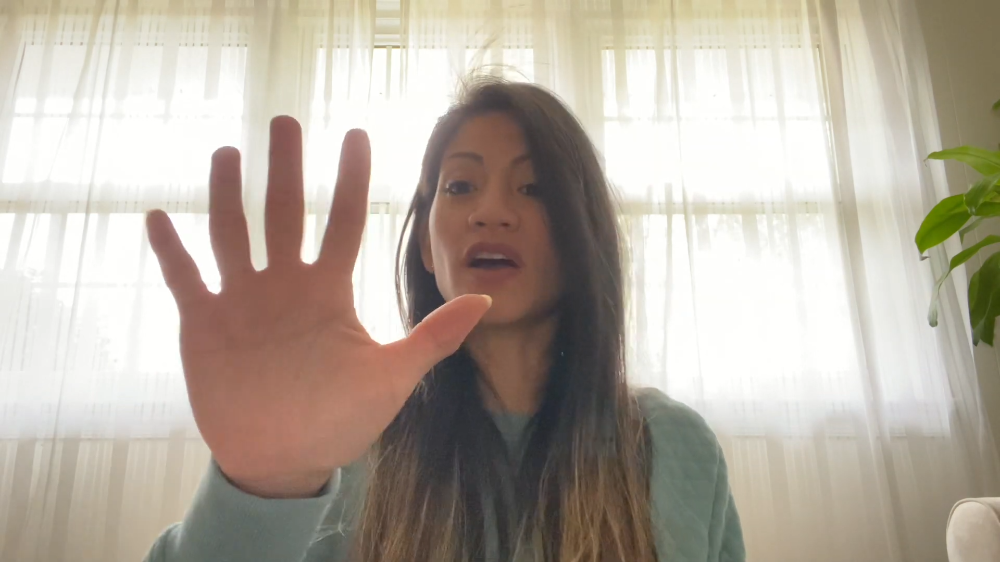hello: (140, 112, 488, 471)
